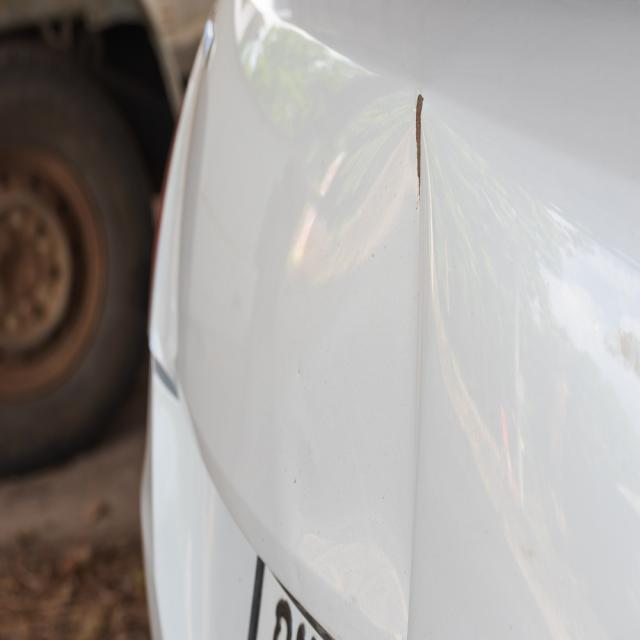dent: (296, 95, 454, 639)
